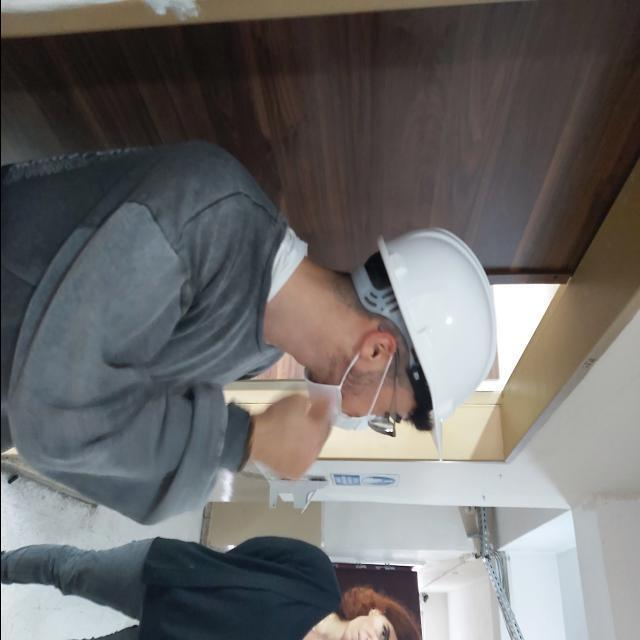helmet: (379, 229, 496, 453)
